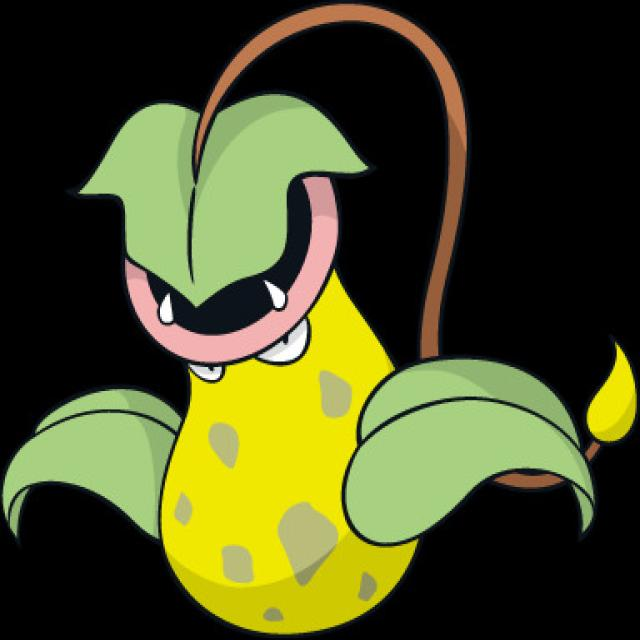Victreebel: (109, 97, 433, 630)
